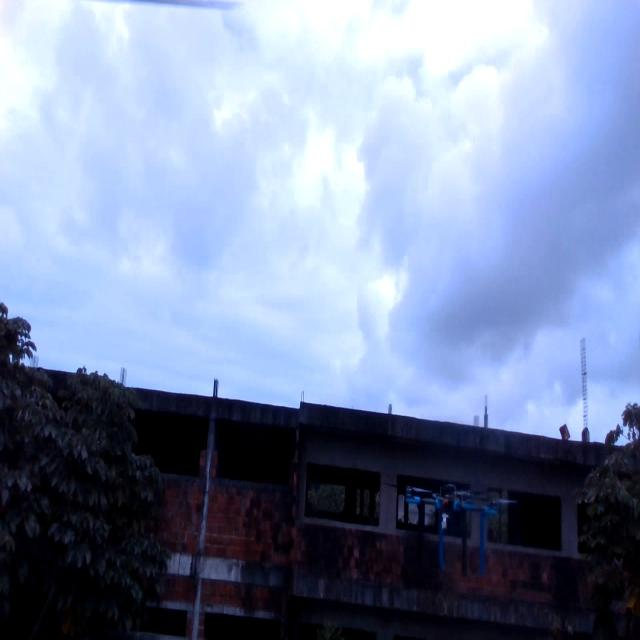-uav-: (378, 455, 524, 585)
